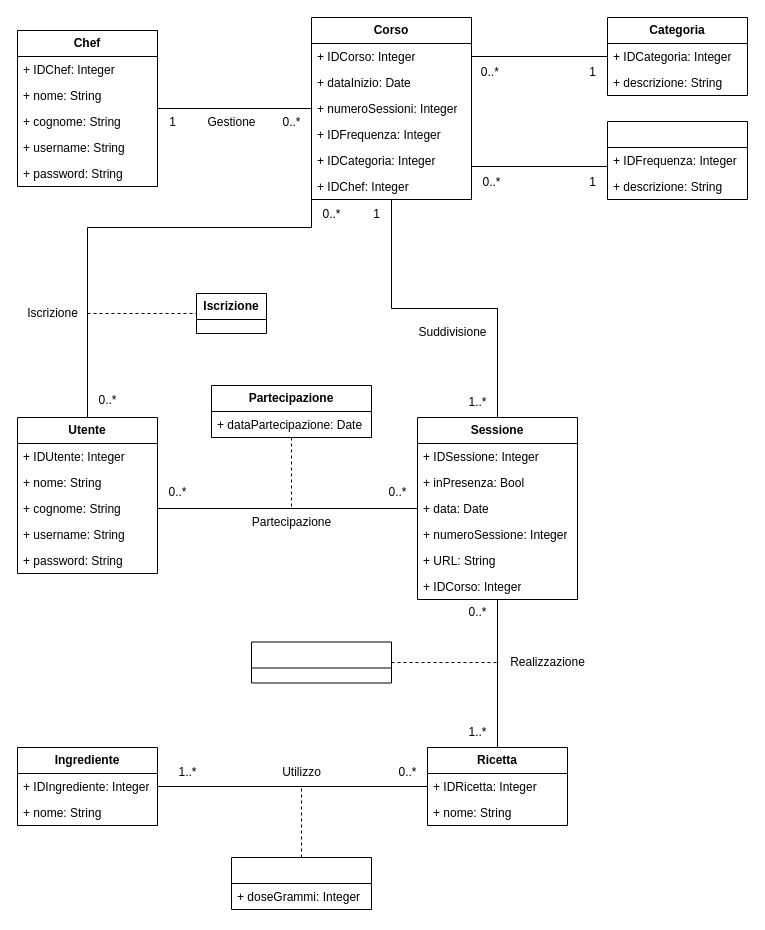
Image size: 765x930. Some labels were removed from this diagram. The box of each missing label's shape, as (x1, y1, x2, y2) in pixels:
FrequenzaSessioni: (606, 120, 748, 200)
IngredientiUtilizzati: (230, 856, 372, 910)
RealizzazioneRicetta: (250, 641, 392, 683)
